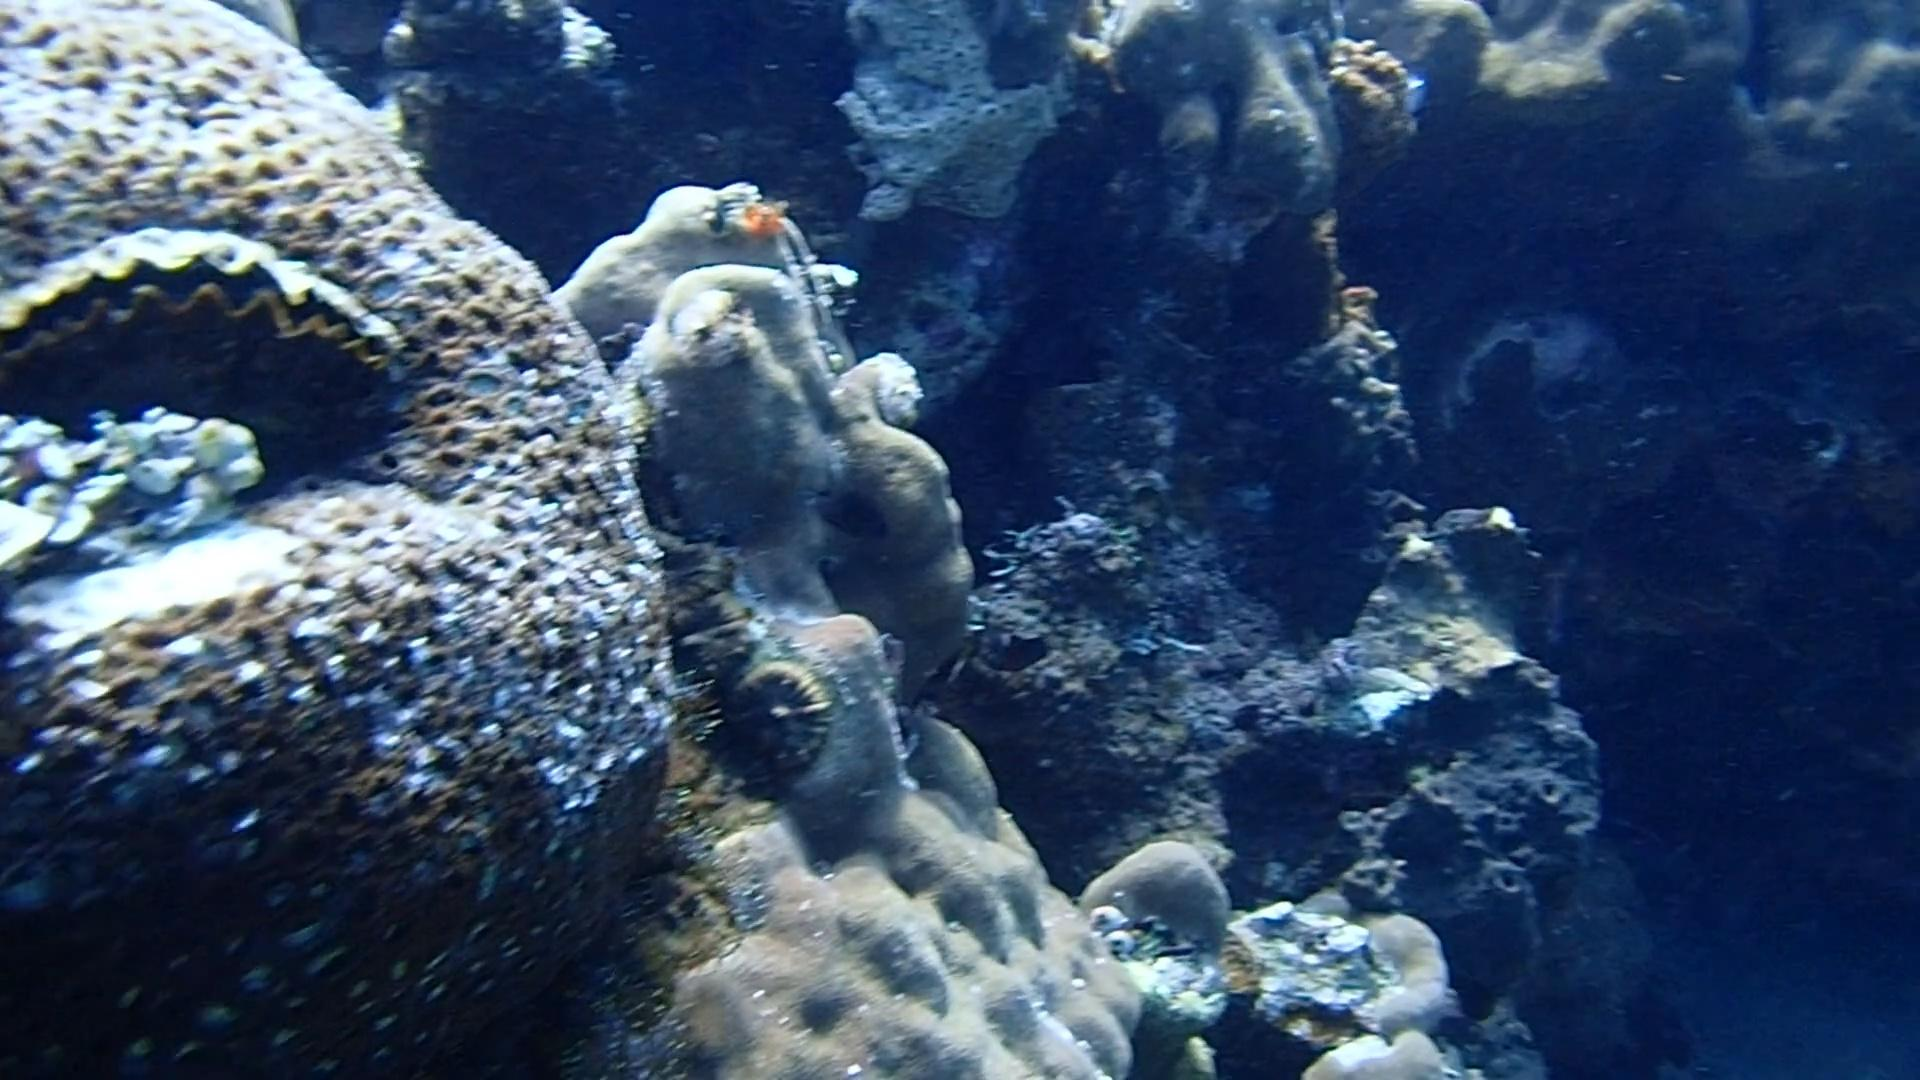Dark Fish: (807, 468, 902, 564), (977, 613, 1064, 683)
